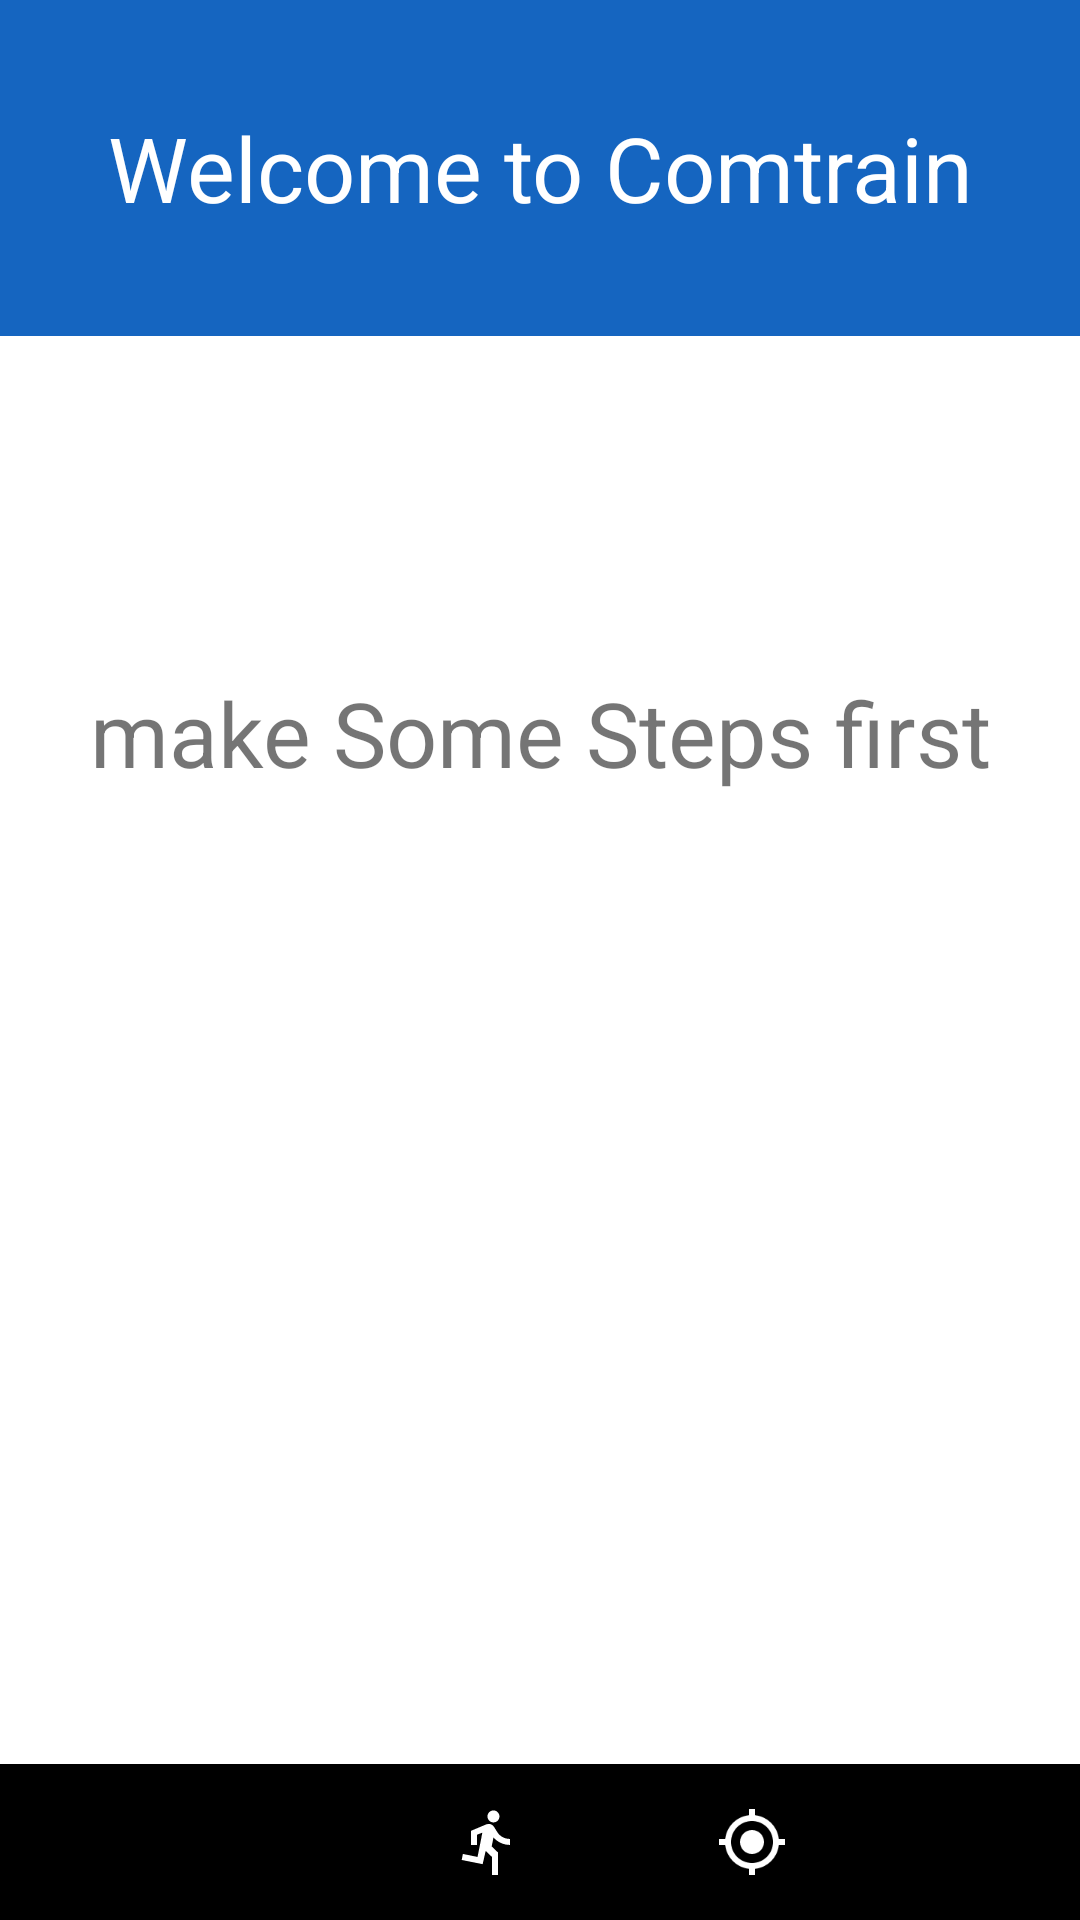

Icon click points for this 1080 × 1920 phone screenshot, format (x,y):
to step counter: (485,1842)
